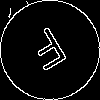F: (25, 25, 75, 80)
